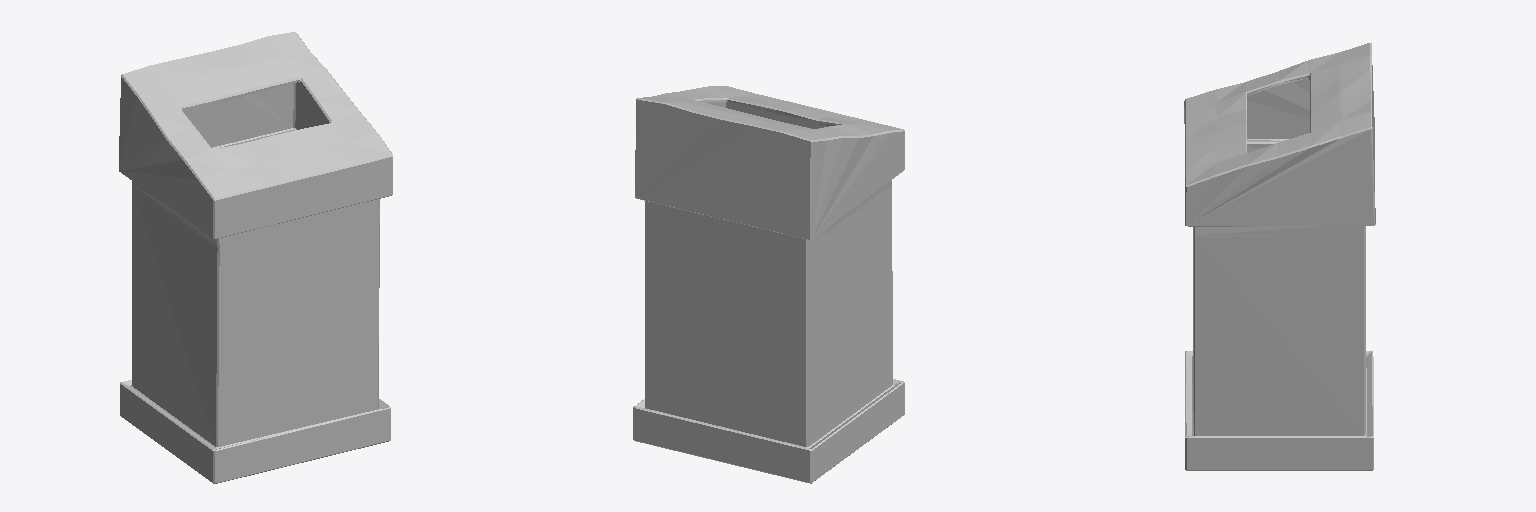
The model's file is bin.obj.
The picture shows the model from 3 angles: view 1: azimuth 30°, elevation 25°; view 2: azimuth 150°, elevation 25°; view 3: azimuth 270°, elevation 25°; orthographic projection.
Visible parts, largest first — view 1: bin_Cube.006; view 2: bin_Cube.006; view 3: bin_Cube.006.
Part boxes in pixels (left/top/right/bottom): bin_Cube.006: left=119, top=32, right=392, bottom=483; bin_Cube.006: left=633, top=86, right=904, bottom=483; bin_Cube.006: left=1184, top=43, right=1375, bottom=470.
Bounding box in the file's own units: 0.8847 × 1.61 × 0.8066.